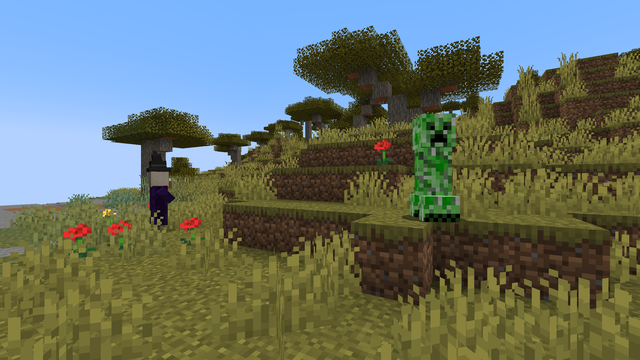creepers: (409, 105, 453, 221)
sorcieres: (143, 169, 173, 233)
